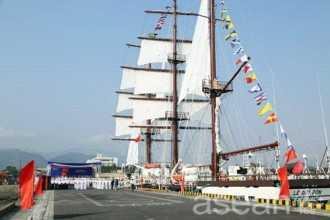fanchuan: (119, 1, 330, 201)
